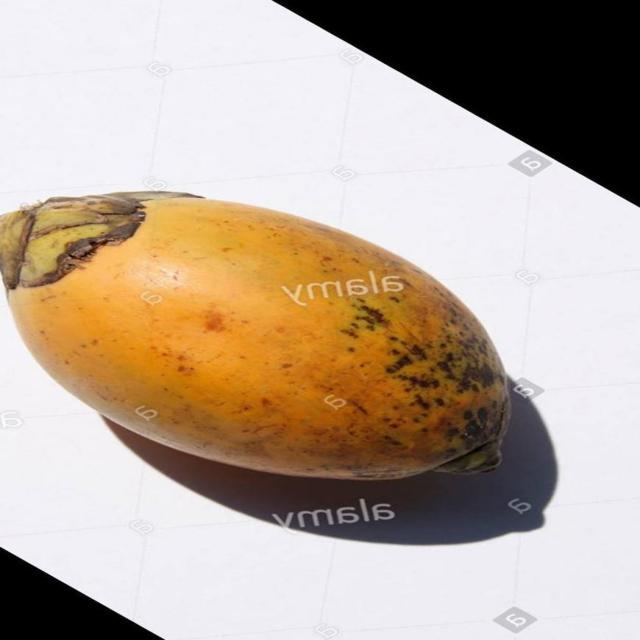good: (0, 193, 511, 482)
